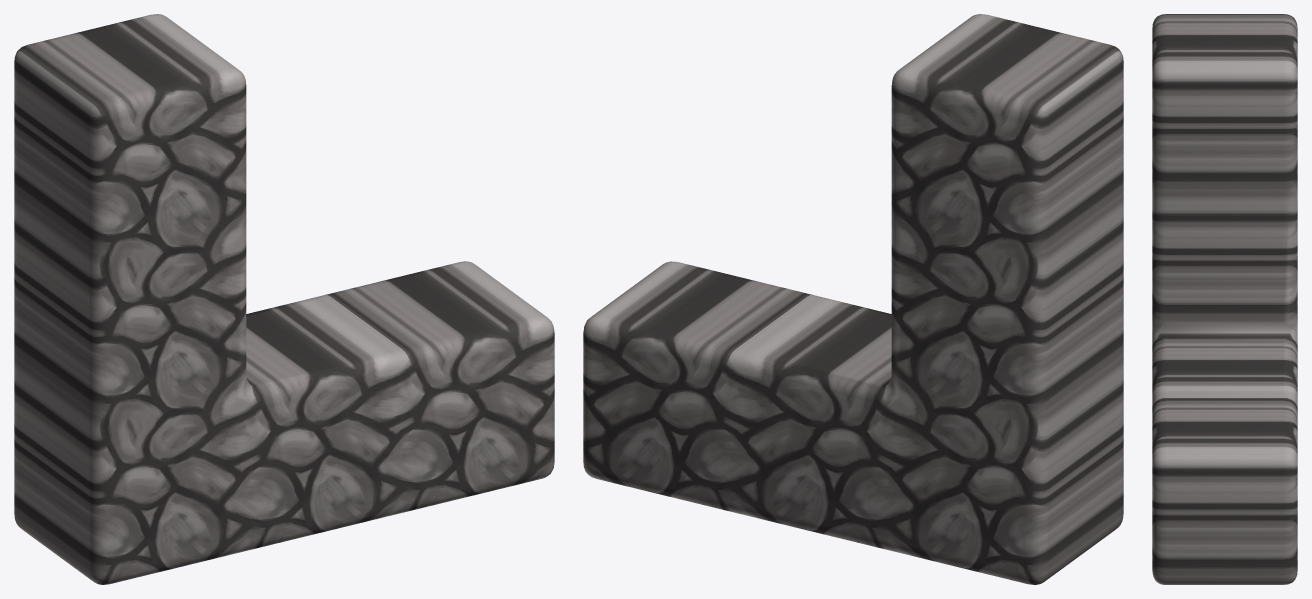
The model's file is big_corner_block.FBX.
3 renders of one model, left to right at view 1: azimuth 30°, elevation 25°; view 2: azimuth 150°, elevation 25°; view 3: azimuth 270°, elevation 25°, orthographic. The views are drawn at different scales.
Parts seen in each view (by area): view 1: Box001; view 2: Box001; view 3: Box001.
Part boxes in pixels (<box>): Box001: <box>14,14,554,584</box>; Box001: <box>583,14,1123,584</box>; Box001: <box>1152,14,1297,584</box>.
Bounding box in the file's own units: 3 × 3 × 1.
